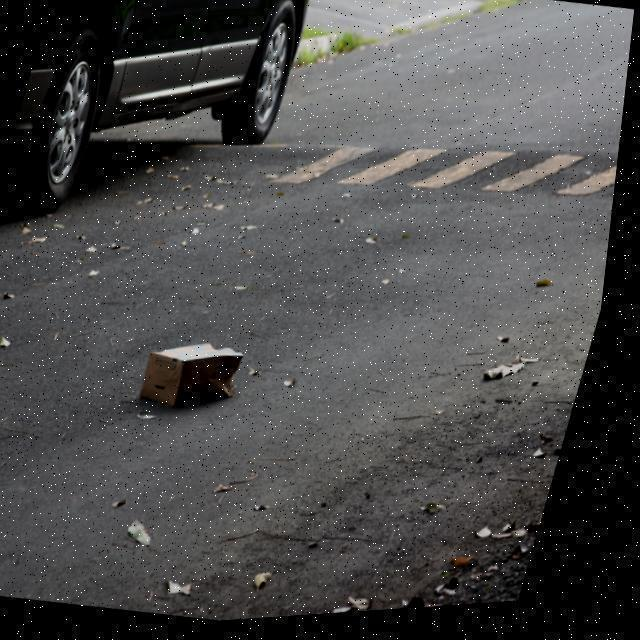Paper_Bag: (144, 334, 258, 423)
